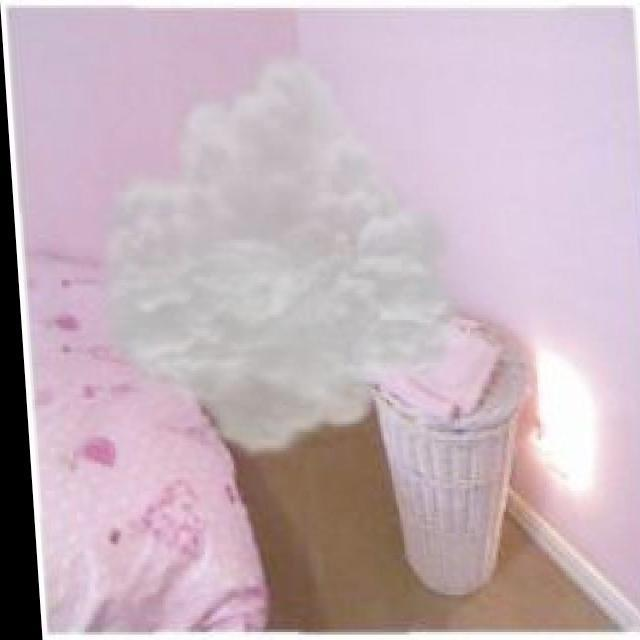Smoke: (77, 46, 476, 464)
